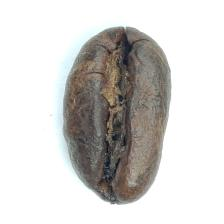NG: (83, 35, 139, 200)
